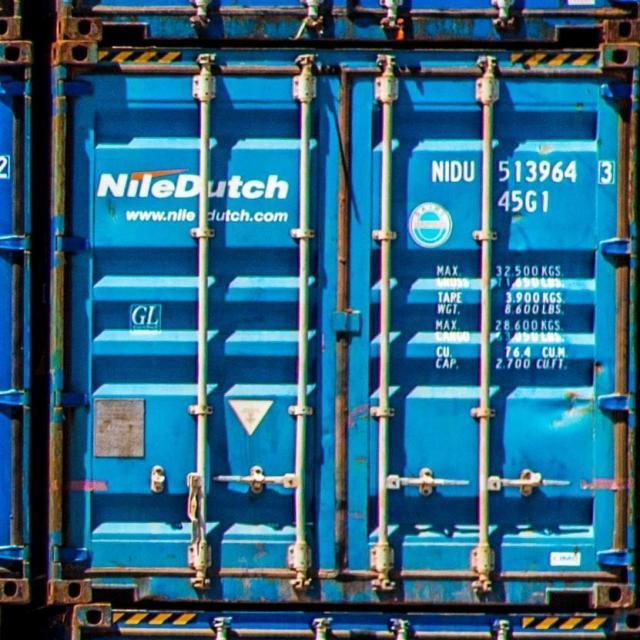ISO: (496, 183, 554, 217)
container_number: (429, 156, 620, 185)
